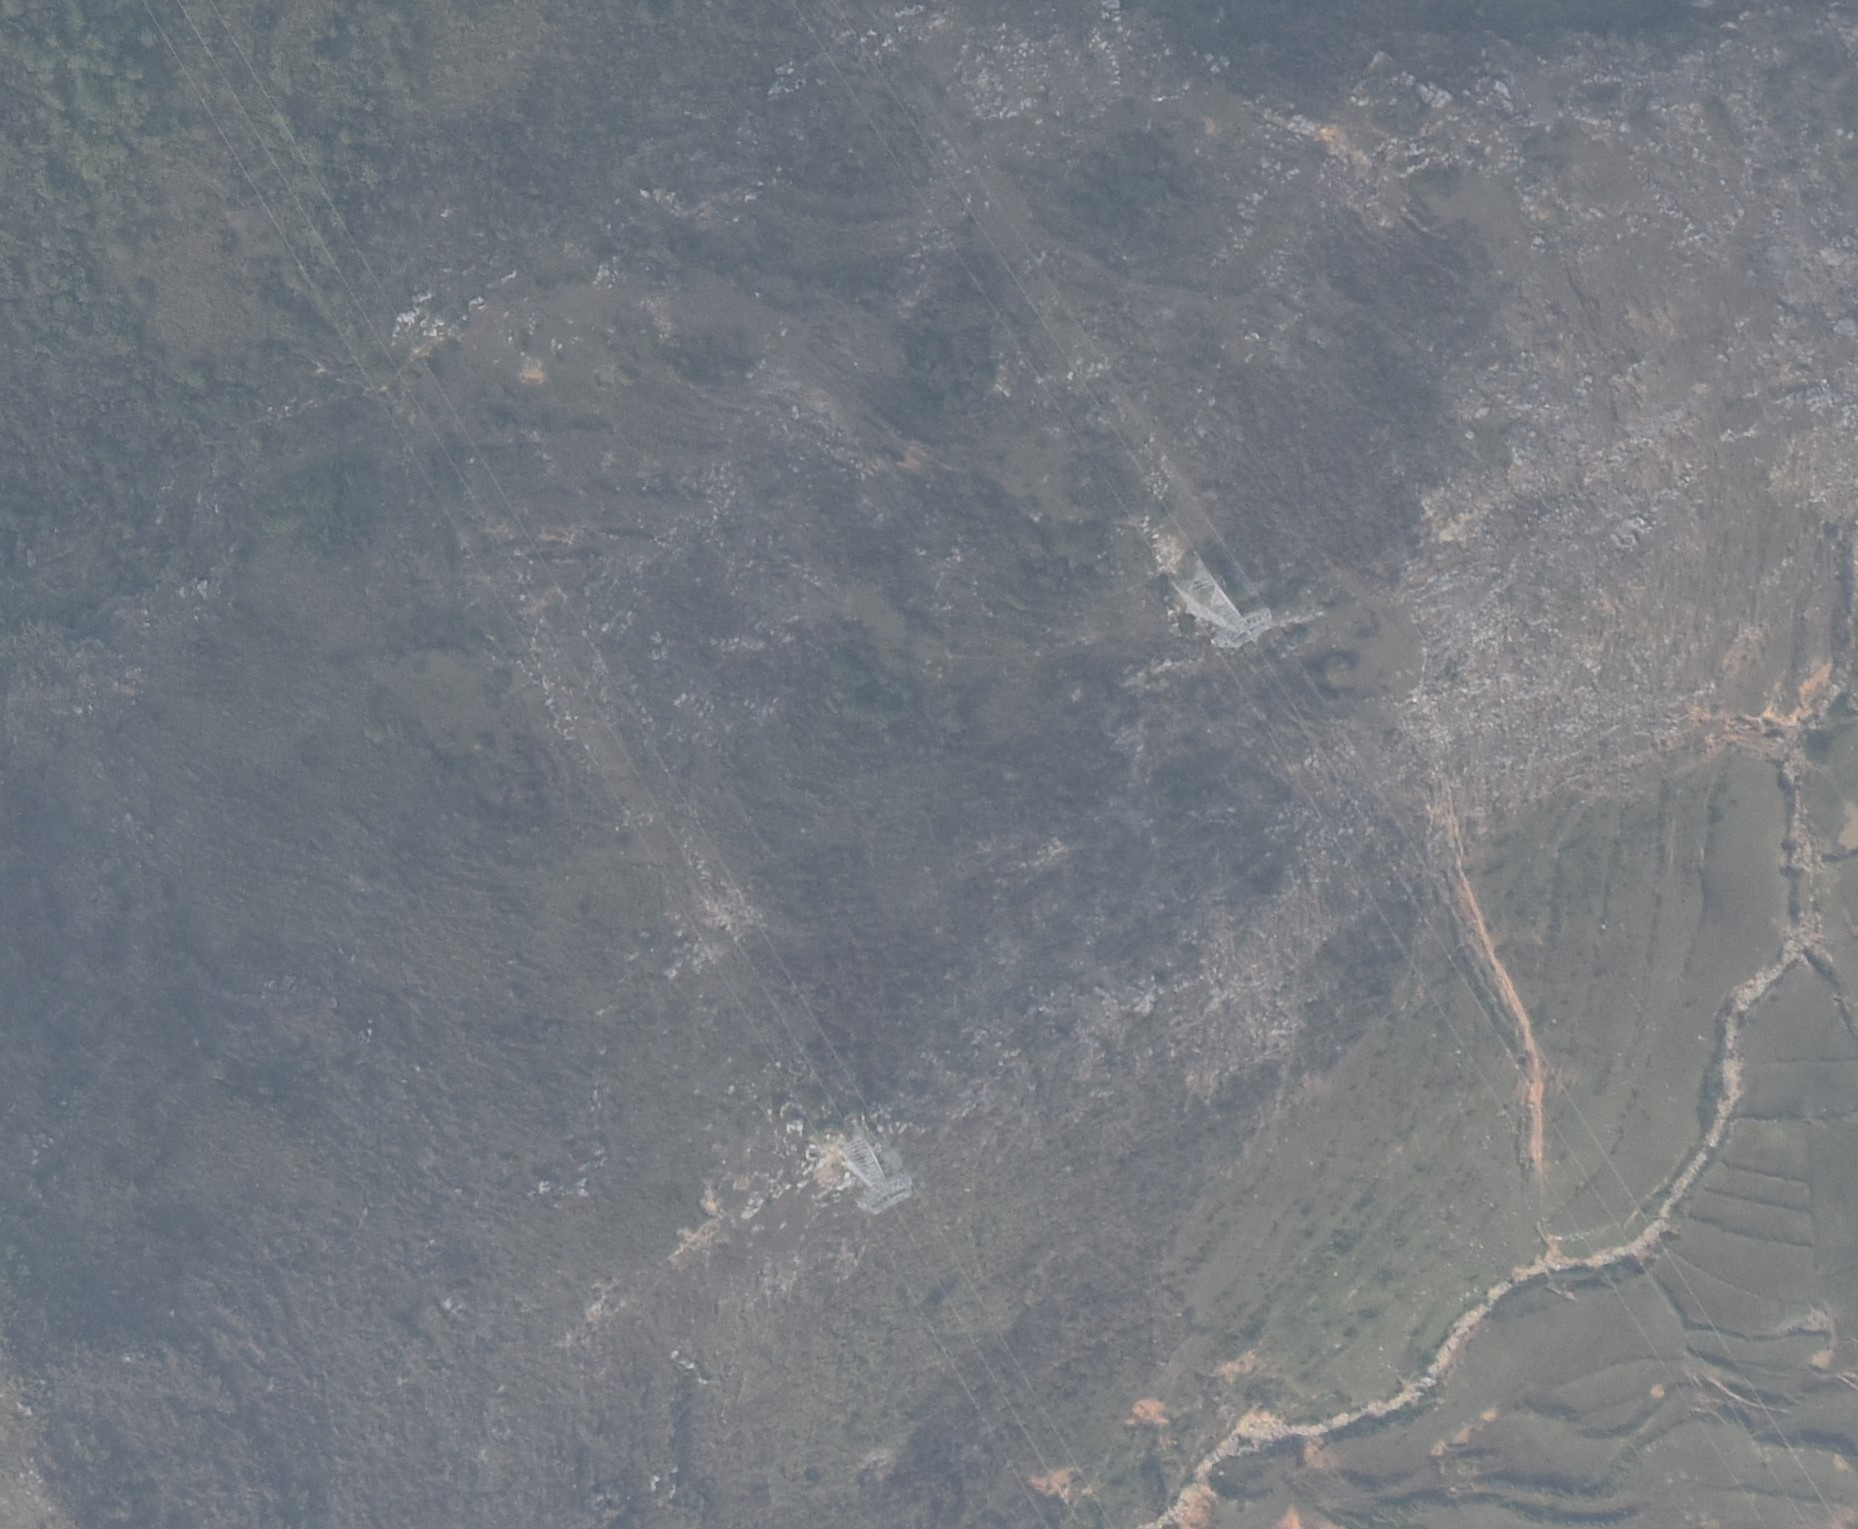cable-tower: (1171, 560, 1272, 650), (839, 1136, 914, 1214)
